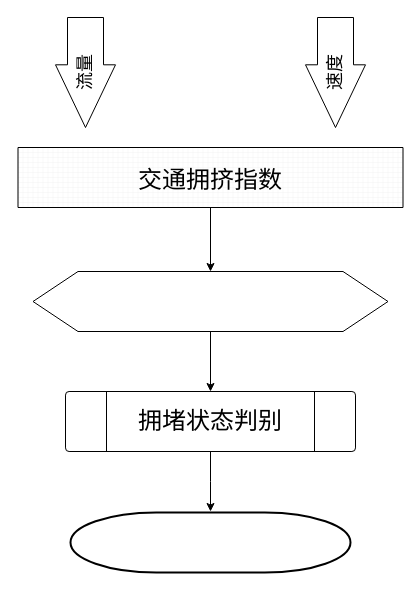
Some shapes in this 420 by 591 pixel diagram are drawn without their labels. Each missing label, with the centre of its shape:
与特定阈值比较: pixel 210 301
车道管控决策: pixel 210 542
